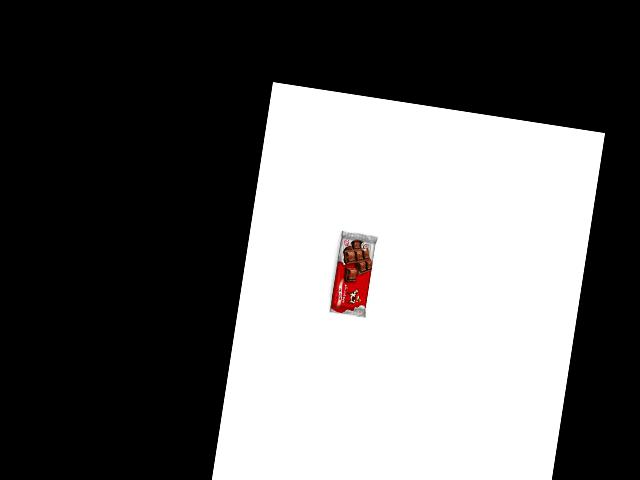chocolate: (328, 228, 378, 318)
